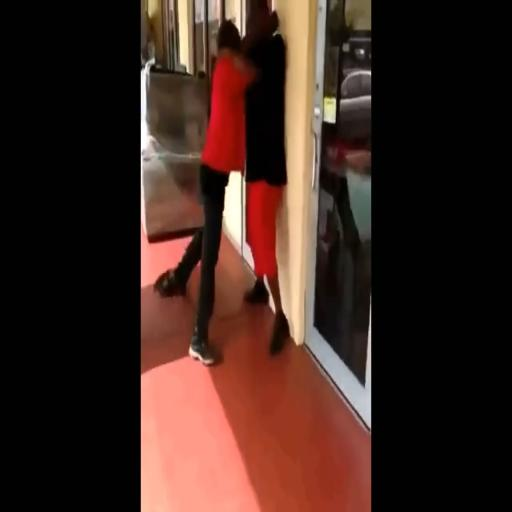violencia: (147, 0, 296, 378)
